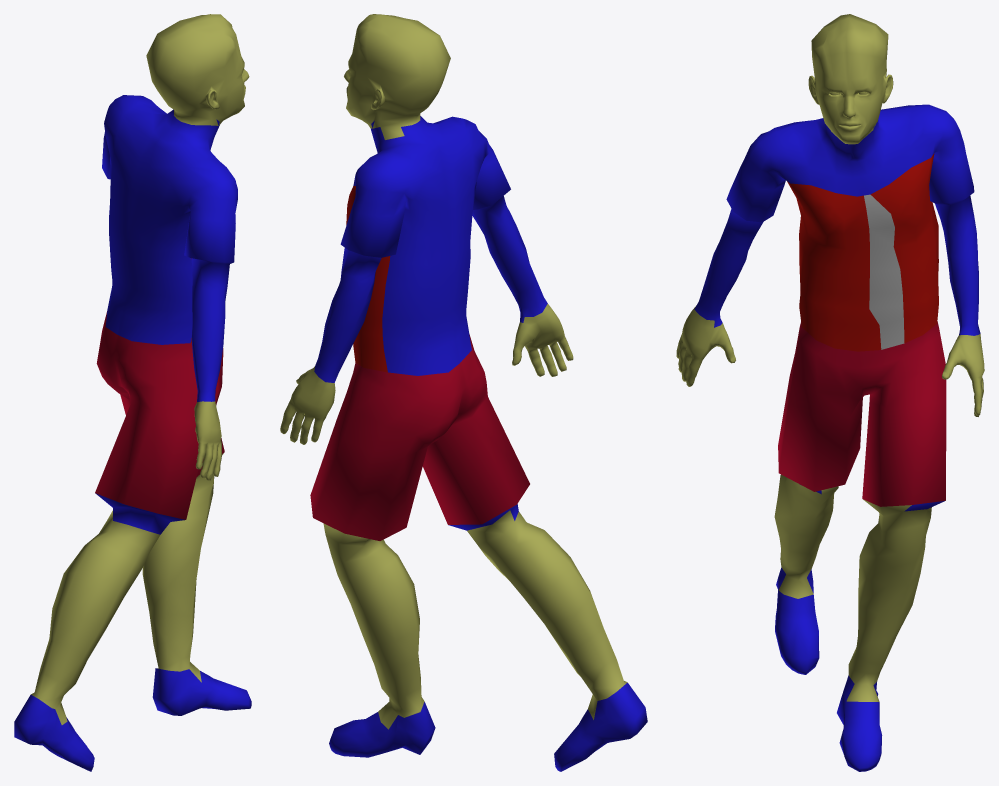
The model's file is player_000017.obj.
3 renders of one model, left to right at view 1: azimuth 30°, elevation 25°; view 2: azimuth 150°, elevation 25°; view 3: azimuth 270°, elevation 25°, orthographic. The views are drawn at different scales.
Visible parts, largest first — view 1: soccerplayer_mesh; view 2: soccerplayer_mesh; view 3: soccerplayer_mesh.
Part boxes in pixels (box(x1,y1,x2,y2)): soccerplayer_mesh: box(14, 14, 251, 771); soccerplayer_mesh: box(280, 14, 647, 771); soccerplayer_mesh: box(676, 14, 984, 771).
Size of the model in its own units: 2.11 by 5.36 by 2.07.
